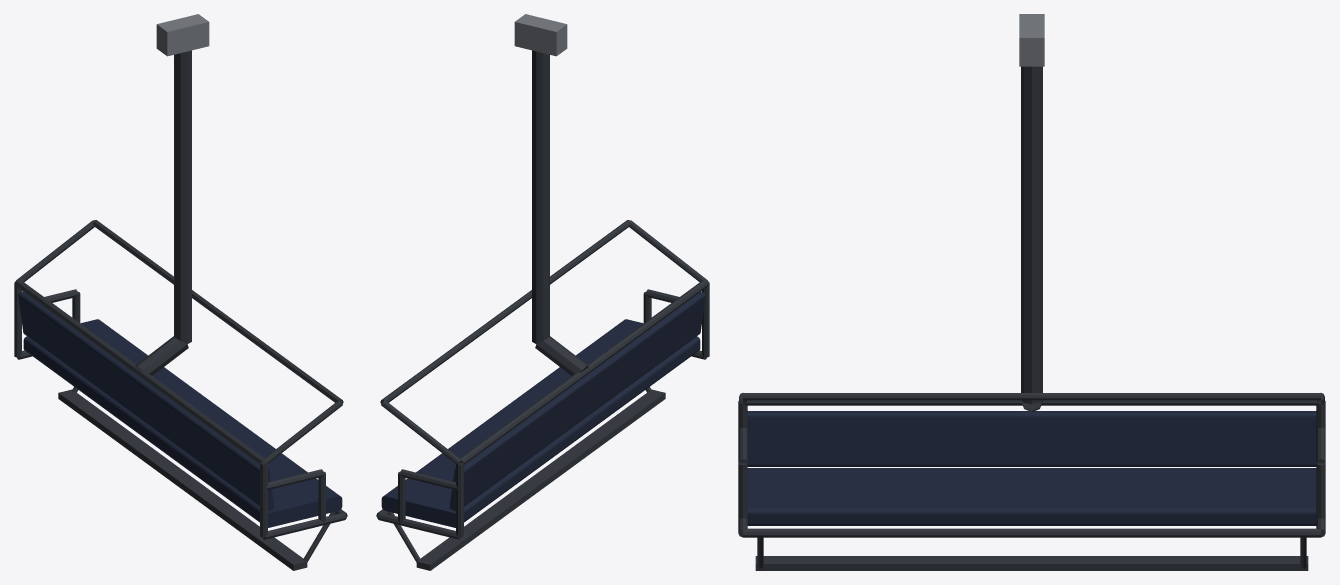
The model's file is chair_6pack.obj.
The picture shows the model from 3 angles, left to right: view 1: azimuth 30°, elevation 25°; view 2: azimuth 150°, elevation 25°; view 3: azimuth 270°, elevation 25°; orthographic projection. The views are drawn at different scales.
Bounding box in the file's own units: 0.7513 × 3.78 × 3.72.
